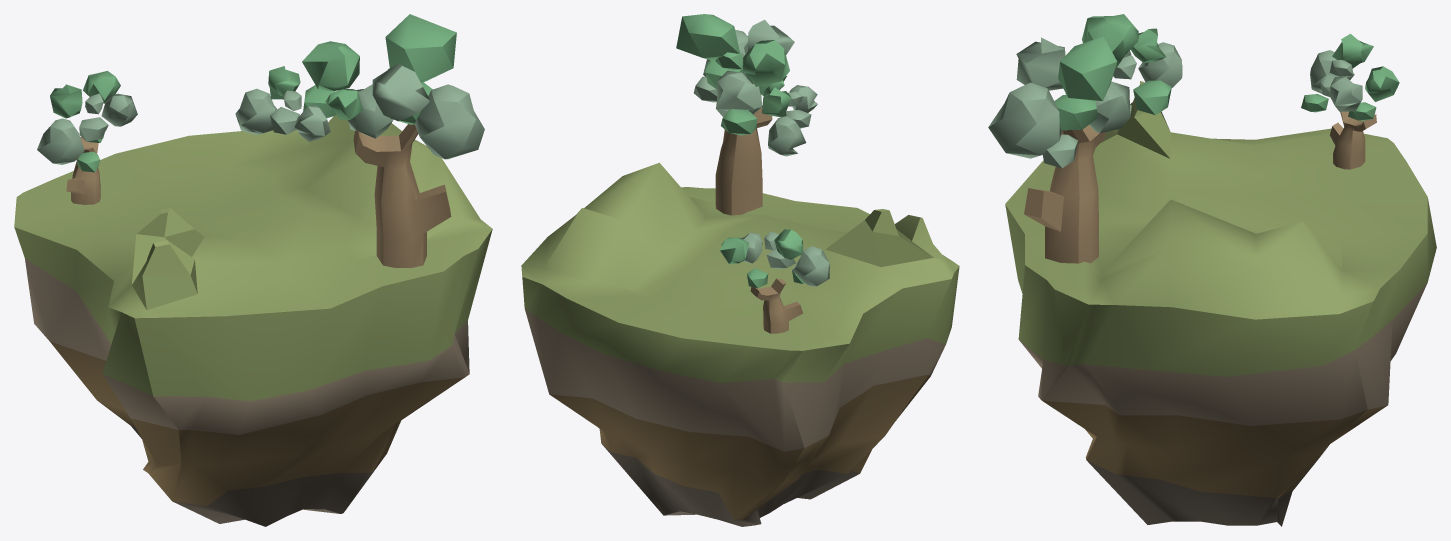
Rendered from ground-green.fbx.
3 views of the same model, side by side, from view 1: azimuth 30°, elevation 25°; view 2: azimuth 150°, elevation 25°; view 3: azimuth 270°, elevation 25° (orthographic). The views are drawn at different scales.
Visible parts, largest first — view 1: pCube6, polySurface30, polySurface83, polySurface45, pCylinder21, polySurface38, polySurface39, polySurface35, polySurface50, polySurface44, polySurface34, polySurface52 (+3 smaller); view 2: pCube6, polySurface30, polySurface83, pCylinder21, polySurface39, polySurface44, polySurface50, polySurface35, polySurface38, polySurface43, polySurface52, polySurface47; view 3: pCube6, polySurface30, polySurface45, pCylinder21, polySurface83, polySurface38, polySurface50, polySurface39, polySurface44, polySurface37, polySurface43, polySurface34 (+4 smaller).
Boxes of the visible parts, bbox=[...] form: pCube6: bbox=[14, 115, 492, 526]; polySurface30: bbox=[353, 124, 451, 267]; polySurface83: bbox=[235, 66, 362, 141]; polySurface45: bbox=[414, 84, 484, 159]; pCylinder21: bbox=[385, 14, 456, 82]; polySurface38: bbox=[372, 64, 429, 121]; polySurface39: bbox=[302, 41, 359, 91]; polySurface35: bbox=[37, 118, 84, 164]; polySurface50: bbox=[66, 137, 100, 204]; polySurface44: bbox=[348, 84, 392, 138]; polySurface34: bbox=[101, 93, 137, 126]; polySurface52: bbox=[50, 84, 82, 118]; pCube6: bbox=[521, 162, 959, 526]; polySurface30: bbox=[715, 105, 772, 215]; polySurface83: bbox=[759, 76, 817, 156]; pCylinder21: bbox=[676, 14, 739, 60]; polySurface39: bbox=[742, 40, 789, 86]; polySurface44: bbox=[716, 70, 762, 116]; polySurface50: bbox=[750, 278, 803, 333]; polySurface35: bbox=[792, 246, 829, 286]; polySurface38: bbox=[744, 19, 794, 54]; polySurface43: bbox=[721, 109, 757, 135]; polySurface52: bbox=[774, 229, 803, 259]; polySurface47: bbox=[720, 237, 748, 264]; pCube6: bbox=[1005, 81, 1436, 526]; polySurface30: bbox=[1024, 125, 1106, 263]; polySurface45: bbox=[988, 82, 1061, 158]; pCylinder21: bbox=[1058, 36, 1117, 100]; polySurface83: bbox=[1113, 28, 1182, 87]; polySurface38: bbox=[1016, 37, 1065, 90]; polySurface50: bbox=[1330, 111, 1376, 169]; polySurface39: bbox=[1082, 14, 1138, 67]; polySurface44: bbox=[1089, 81, 1131, 133]; polySurface37: bbox=[1054, 95, 1097, 130]; polySurface43: bbox=[1133, 80, 1171, 114]; polySurface34: bbox=[1330, 76, 1362, 111].
Size of the model in its own units: 8.05 by 9.71 by 7.73.
